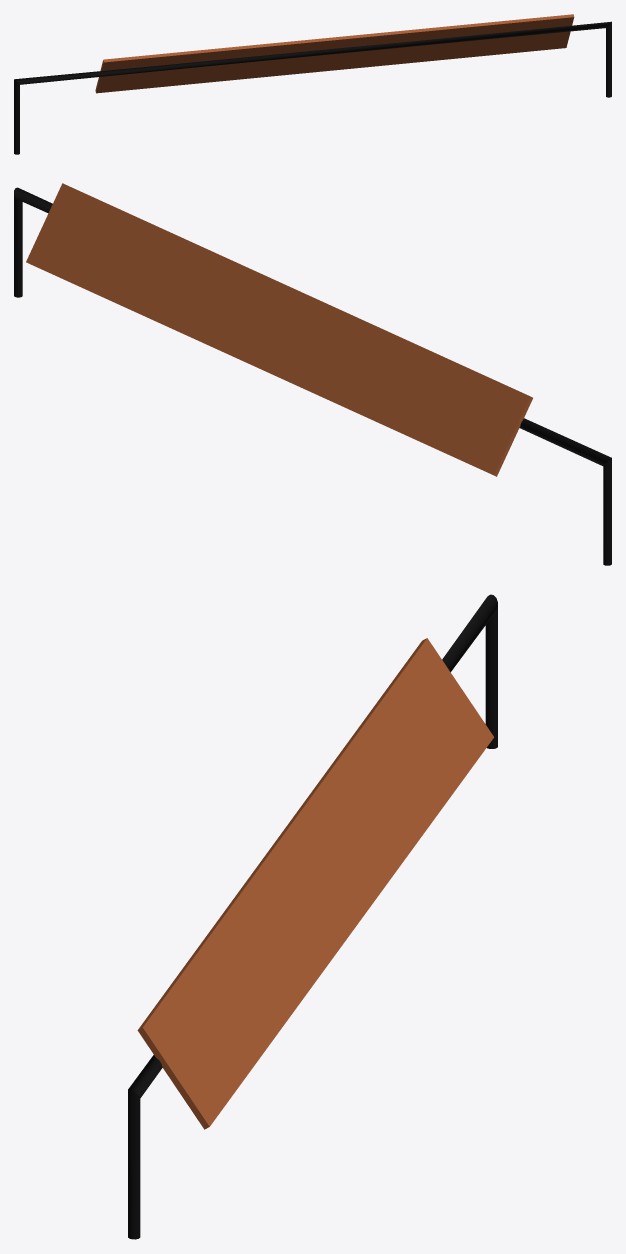
Rendered from loongSign.FBX.
3 renders of one model, top to bottom at view 1: azimuth 30°, elevation 25°; view 2: azimuth 150°, elevation 25°; view 3: azimuth 270°, elevation 25°, orthographic. The views are drawn at different scales.
Parts seen in each view (by area): view 1: Obj3d66-610700-431-124, Obj3d66-610700-432-460; view 2: Obj3d66-610700-431-124, Obj3d66-610700-432-460; view 3: Obj3d66-610700-431-124, Obj3d66-610700-432-460.
Part boxes in pixels (bbox=[...]): Obj3d66-610700-431-124: bbox=[95, 14, 574, 93]; Obj3d66-610700-432-460: bbox=[14, 21, 611, 154]; Obj3d66-610700-431-124: bbox=[26, 183, 532, 476]; Obj3d66-610700-432-460: bbox=[14, 187, 611, 565]; Obj3d66-610700-431-124: bbox=[137, 638, 493, 1129]; Obj3d66-610700-432-460: bbox=[128, 594, 497, 1239].
Bounding box in the file's own units: 4673 × 779 × 1474.
